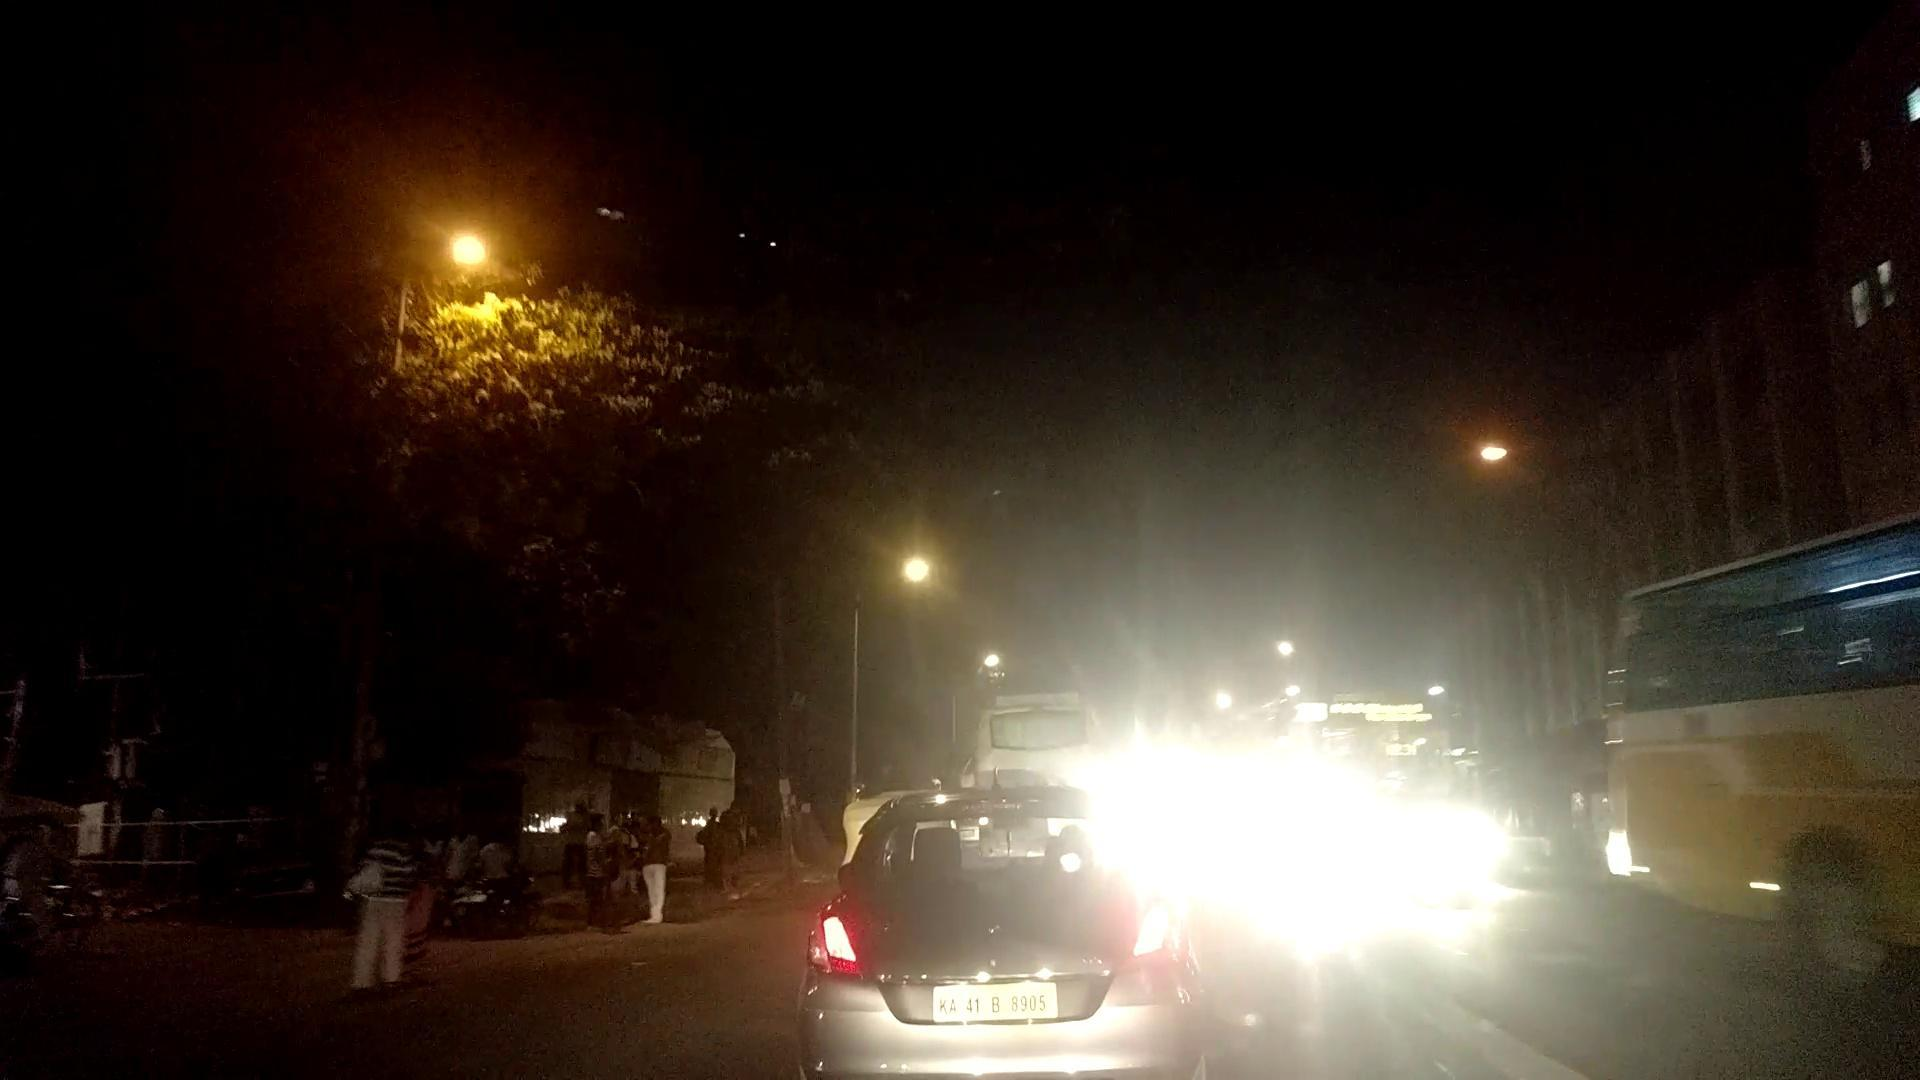on: (1320, 272, 1639, 659), (349, 112, 663, 475)
